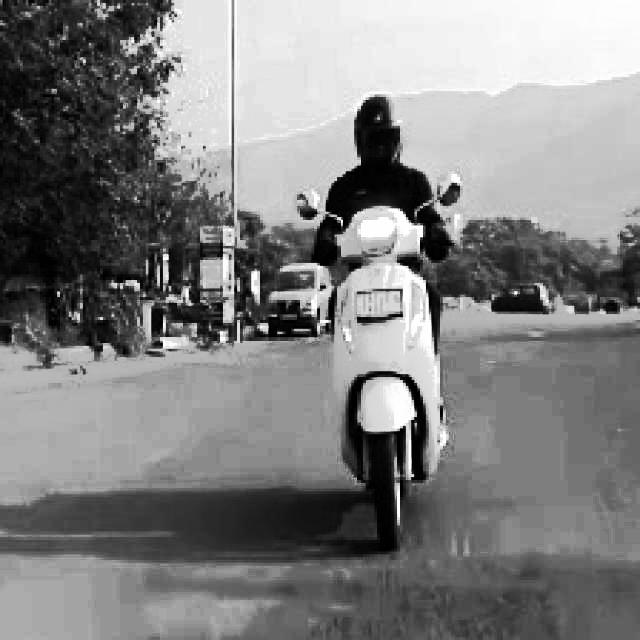Bike: (324, 194, 430, 550)
